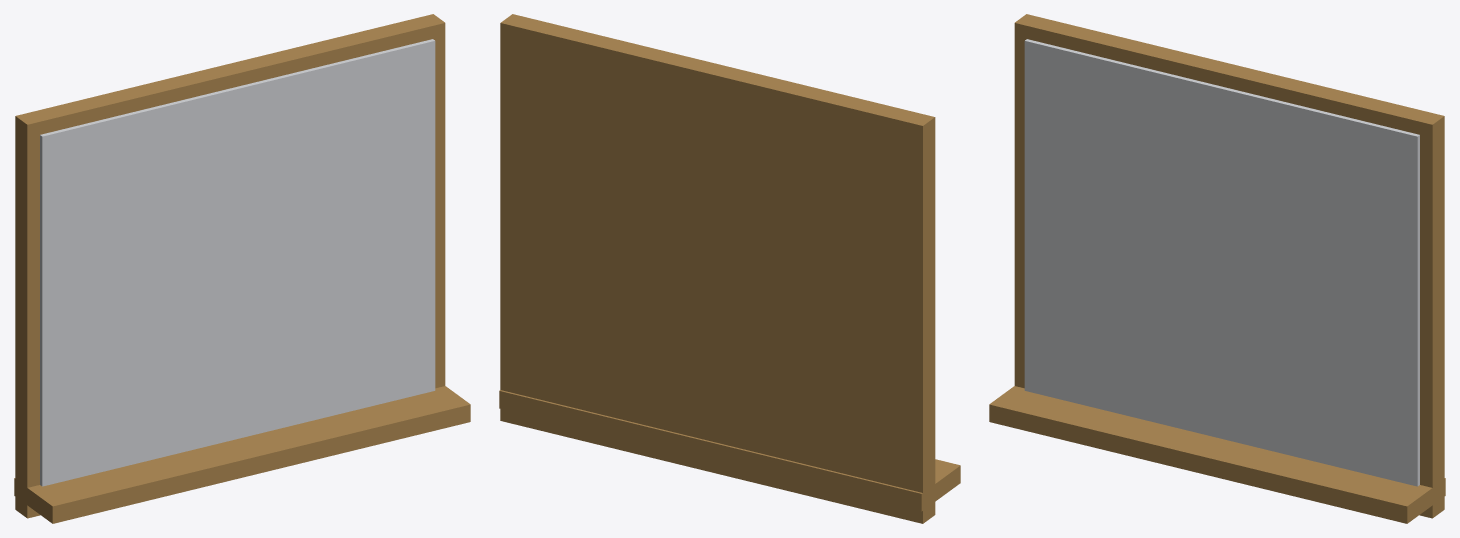
3 renders of one model, left to right at view 1: azimuth 30°, elevation 25°; view 2: azimuth 150°, elevation 25°; view 3: azimuth 330°, elevation 25°, orthographic.
Parts seen in each view (by area): view 1: mirror; view 2: mirror; view 3: mirror.
Part boxes in pixels (left/top/right/bottom): mirror: left=14, top=14, right=470, bottom=523; mirror: left=499, top=14, right=960, bottom=523; mirror: left=989, top=14, right=1445, bottom=523.
Bounding box in the file's own units: 1 × 0.9 × 0.16.
